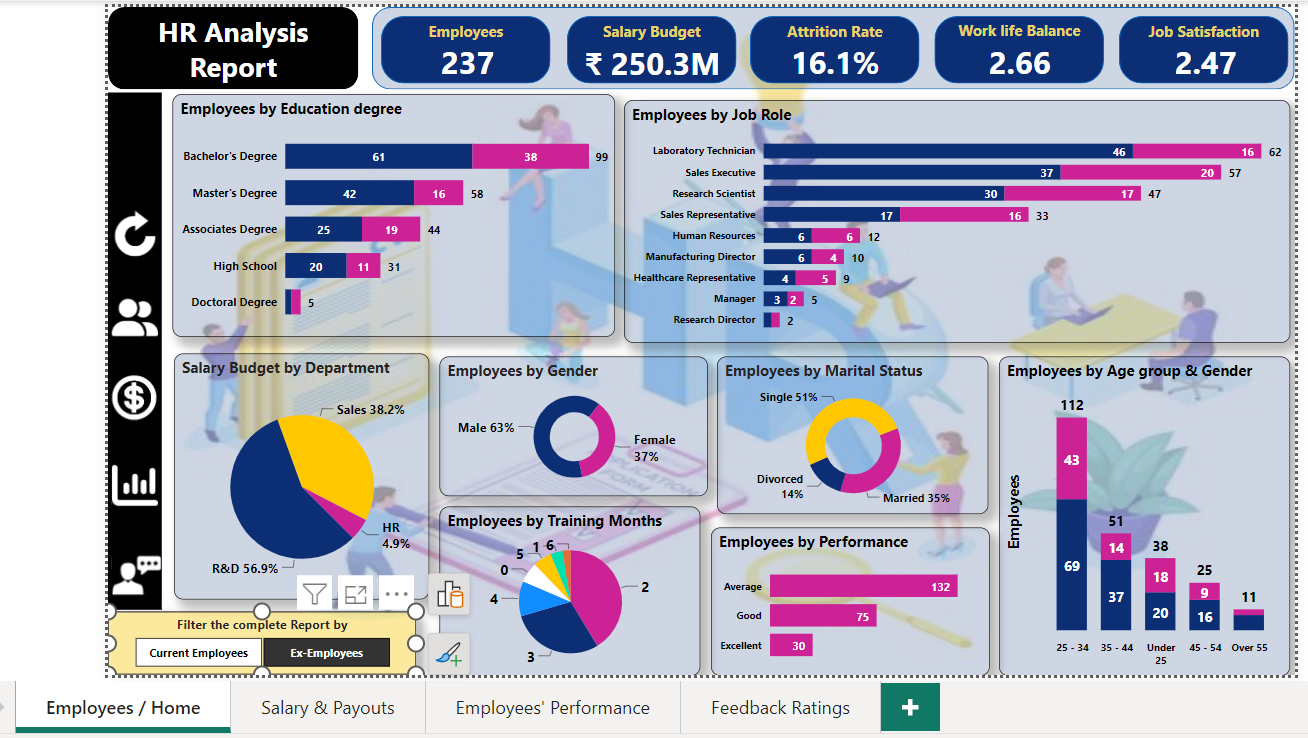

The page's visual inventory and layout, read from the dashboard file:
{"tool":"powerbi","page":{"name":"Employees / Home","canvas":[1280,720],"ordinal":0},"visuals":[{"type":"shape","title":"Report Title grp","box":[0,0,270.2,89],"z":0},{"type":"shape","title":"backgroung","box":[284.8,0,995.1,89],"z":0,"group":"g3"},{"type":"shape","box":[294.5,9.4,182.8,72.8],"z":0,"group":"g2"},{"type":"shape","box":[494.7,9.4,182.8,72.8],"z":0,"group":"g1"},{"type":"shape","box":[693.3,9.4,182.8,72.8],"z":0,"group":"g4"},{"type":"shape","box":[1090.6,9.4,182.8,72.8],"z":0,"group":"g5"},{"type":"shape","box":[891.9,10.2,182.8,72.8],"z":0,"group":"g7"},{"type":"actionButton","box":[0,212,58.2,64.7],"z":0,"group":"g8"},{"type":"pieChart","title":"Salary Budget by Department","fields":{"Category":["Employees.Department"],"Y":["Measures Table.#10 Salary Budget"]},"box":[70.5,372.3,275.1,265.3],"z":0,"group":"g6"},{"type":"textbox","box":[891.9,8.6,182.8,37.2],"z":1000,"group":"g7"},{"type":"textbox","box":[294.5,9.4,182.8,37.2],"z":1000,"group":"g2"},{"type":"group","id":"g1","title":"Group 1","box":[494.7,9.4,182.8,72.8],"z":1000,"group":"g3"},{"type":"textbox","box":[494.7,9.4,182.8,37.2],"z":1000,"group":"g1"},{"type":"textbox","box":[693.3,9.4,182.8,37.2],"z":1000,"group":"g4"},{"type":"textbox","box":[1090.6,9.4,182.8,37.2],"z":1000,"group":"g5"},{"type":"shape","box":[0,92.2,58.2,558.2],"z":1000},{"type":"actionButton","box":[0,305.8,58.2,58.2],"z":1000,"group":"g8"},{"type":"columnChart","title":"Employees by Age group & Gender","fields":{"Category":["Employees.Age Group"],"Y":["Measures Table.#1 Total Employees"],"Series":["Employees.Gender"]},"box":[960.4,375.5,313.9,344.6],"z":1000,"group":"g6"},{"type":"group","id":"g2","title":"Group 2","box":[294.5,9.4,184.4,72.8],"z":2000,"group":"g3"},{"type":"card","title":"card","fields":{"Values":["Measures Table.#1 Total Employees"]},"box":[296.1,35.3,182.8,46.9],"z":2000,"group":"g2"},{"type":"card","title":"card","fields":{"Values":["Measures Table.#5 Attrition Rate"]},"box":[693.3,35.3,182.8,46.9],"z":2000,"group":"g4"},{"type":"card","title":"card","fields":{"Values":["Measures Table.#7 Rating Job Satisfaction"]},"box":[1092.2,35.3,182.8,46.9],"z":2000,"group":"g5"},{"type":"card","title":"card","fields":{"Values":["Measures Table.#9 Rating Work life Balance"]},"box":[891.9,36.1,182.8,46.9],"z":2000,"group":"g7"},{"type":"card","title":"card","fields":{"Values":["Measures Table.#10 Salary Budget"]},"box":[494.7,38.5,182.8,43.7],"z":2000,"group":"g1"},{"type":"barChart","title":"Employees by Education degree","fields":{"Category":["Employees.Education"],"Y":["Measures Table.#1 Total Employees"],"Series":["Employees.Gender"]},"box":[69.4,93.1,477.3,262.1],"z":2000,"group":"g6"},{"type":"actionButton","box":[0,393.2,58.2,56.6],"z":2000,"group":"g8"},{"type":"slicer","title":"Filter the complete Report by","fields":{"Values":["Employees.attrition label"]},"box":[0,651.7,331.7,68.3],"z":2000},{"type":"group","id":"g3","title":"KPIs #group","box":[284.8,0,995.1,89],"z":3000},{"type":"group","id":"g4","title":"Group 3","box":[693.3,9.4,182.8,72.8],"z":3000,"group":"g3"},{"type":"donutChart","title":"Employees by Gender ","fields":{"Category":["Employees.Gender"],"Y":["Measures Table.#1 Total Employees"]},"box":[356.9,375.5,289.6,150.5],"z":3000,"group":"g6"},{"type":"actionButton","box":[0,479,58.2,74.4],"z":3000,"group":"g8"},{"type":"group","id":"g5","title":"Group 4","box":[1090.6,9.4,184.4,72.8],"z":4000,"group":"g3"},{"type":"group","id":"g6","title":"All charts #group","box":[69.4,93.1,1204.9,627],"z":4000},{"type":"donutChart","title":"Employees by Marital Status","fields":{"Y":["Measures Table.#1 Total Employees"],"Category":["Salary & Payouts.Marital Status"]},"box":[657.3,375.5,292.9,169.9],"z":4000,"group":"g6"},{"type":"actionButton","box":[0,582.5,69.6,61.5],"z":4000,"group":"g8"},{"type":"group","id":"g7","title":"Group 5","box":[891.9,8.6,182.8,74.4],"z":5000,"group":"g3"},{"type":"group","id":"g8","title":"Group 6","box":[0,212,69.6,432],"z":5000},{"type":"pieChart","title":"Employees by Training Months","fields":{"Category":["Salary & Payouts.Training Times Last Year (Months)"],"Y":["Measures Table.#1 Total Employees"]},"box":[356.9,537.3,281.5,182.8],"z":5000,"group":"g6"},{"type":"barChart","title":"Employees by Job Role","fields":{"Y":["Measures Table.#1 Total Employees"],"Series":["Employees.Gender"],"Category":["Employees.Job Role"]},"box":[555.9,98.8,718.4,262.1],"z":6000,"group":"g6"},{"type":"barChart","fields":{"Category":["Salary & Payouts.Performance"],"Y":["Measures Table.#1 Total Employees"]},"box":[649.7,560,300.9,160.2],"z":7000,"group":"g6"}]}

Visuals, with their boxes on the page's 1280x720 design canvas (x1, y1, x2, y2). These are canvas units, not pixel positions in the 1308x738 screenshot, which may show the page scaled, cropped or inside an application window:
"Report Title grp" shape: locate(0, 0, 270, 89)
"backgroung" shape: locate(285, 0, 1280, 89)
shape: locate(294, 9, 477, 82)
shape: locate(495, 9, 678, 82)
shape: locate(693, 9, 876, 82)
shape: locate(1091, 9, 1273, 82)
shape: locate(892, 10, 1075, 83)
actionButton: locate(0, 212, 58, 277)
"Salary Budget by Department" pieChart: locate(70, 372, 346, 638)
textbox: locate(892, 9, 1075, 46)
textbox: locate(294, 9, 477, 47)
"Group 1" group: locate(495, 9, 678, 82)
textbox: locate(495, 9, 678, 47)
textbox: locate(693, 9, 876, 47)
textbox: locate(1091, 9, 1273, 47)
shape: locate(0, 92, 58, 650)
actionButton: locate(0, 306, 58, 364)
"Employees by Age group & Gender" columnChart: locate(960, 376, 1274, 720)
"Group 2" group: locate(294, 9, 479, 82)
"card" card: locate(296, 35, 479, 82)
"card" card: locate(693, 35, 876, 82)
"card" card: locate(1092, 35, 1275, 82)
"card" card: locate(892, 36, 1075, 83)
"card" card: locate(495, 38, 678, 82)
"Employees by Education degree" barChart: locate(69, 93, 547, 355)
actionButton: locate(0, 393, 58, 450)
"Filter the complete Report by" slicer: locate(0, 652, 332, 720)
"KPIs #group" group: locate(285, 0, 1280, 89)
"Group 3" group: locate(693, 9, 876, 82)
"Employees by Gender " donutChart: locate(357, 376, 646, 526)
actionButton: locate(0, 479, 58, 553)
"Group 4" group: locate(1091, 9, 1275, 82)
"All charts #group" group: locate(69, 93, 1274, 720)
"Employees by Marital Status" donutChart: locate(657, 376, 950, 545)
actionButton: locate(0, 582, 70, 644)
"Group 5" group: locate(892, 9, 1075, 83)
"Group 6" group: locate(0, 212, 70, 644)
"Employees by Training Months" pieChart: locate(357, 537, 638, 720)
"Employees by Job Role" barChart: locate(556, 99, 1274, 361)
barChart - Salary & Payouts.Performance x Measures Table.#1 Total Employees: locate(650, 560, 951, 720)
